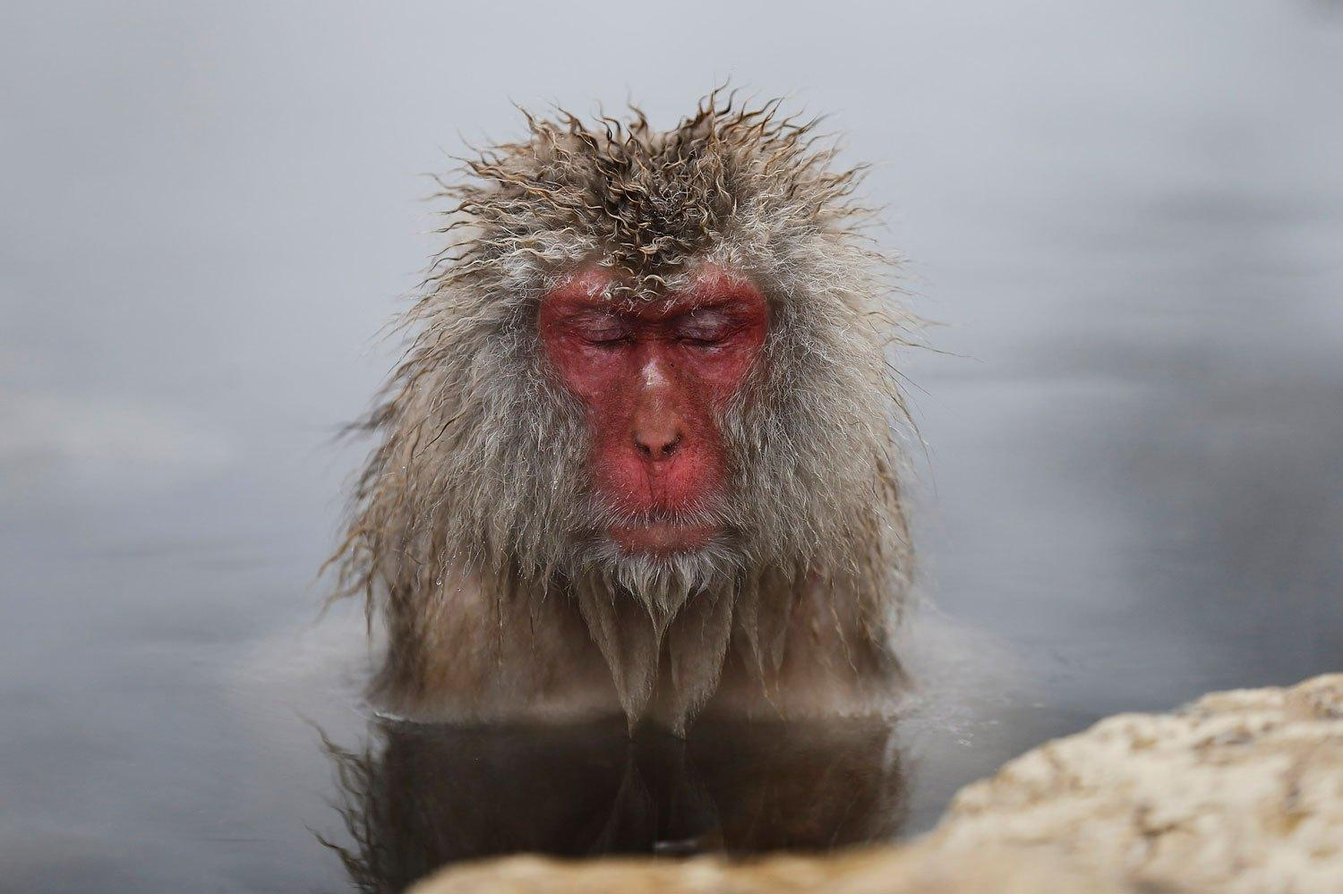monkey: (320, 95, 928, 894)
